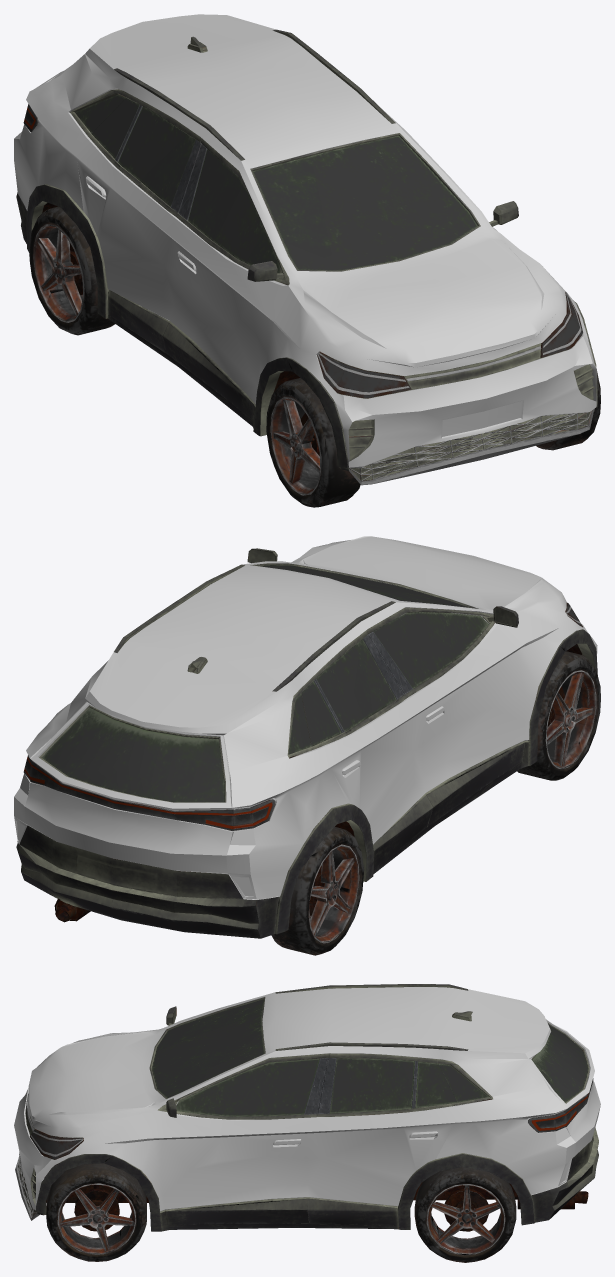
File: car2-lod1.fbx
3 renders of one model, top to bottom at view 1: azimuth 30°, elevation 25°; view 2: azimuth 150°, elevation 25°; view 3: azimuth 270°, elevation 25°, orthographic. The views are drawn at different scales.
Visible parts, largest first — view 1: car2-lod1; view 2: car2-lod1; view 3: car2-lod1.
Boxes of the visible parts, bbox=[...] form: car2-lod1: bbox=[14, 14, 600, 507]; car2-lod1: bbox=[14, 536, 600, 955]; car2-lod1: bbox=[14, 984, 600, 1262].
Size of the model in its own units: 1.81 by 1.61 by 4.25.
